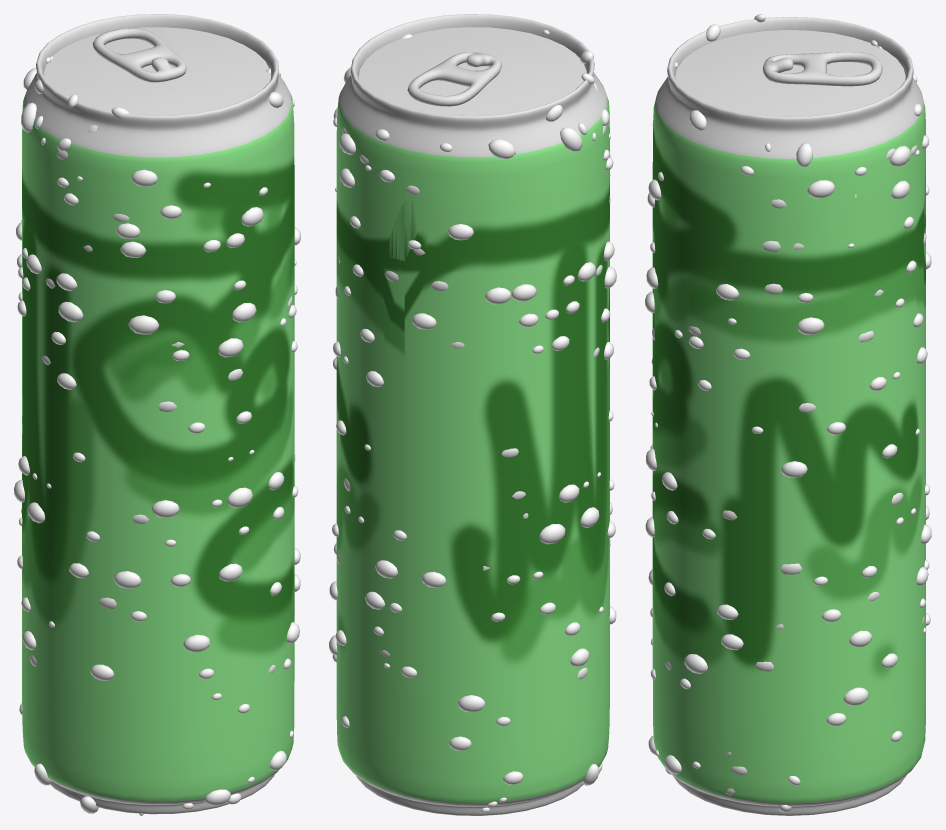
File: Soda.glb
3 renders of one model, left to right at view 1: azimuth 30°, elevation 25°; view 2: azimuth 150°, elevation 25°; view 3: azimuth 270°, elevation 25°, orthographic.
Parts seen in each view (by area): view 1: Soda.001, Droplets, Top, Cap; view 2: Soda.001, Droplets, Top, Cap; view 3: Soda.001, Droplets, Top, Cap.
Boxes of the visible parts, left/top/right/bottom form: Soda.001: left=22, top=14, right=294, bottom=814; Droplets: left=14, top=56, right=300, bottom=815; Top: left=44, top=27, right=270, bottom=115; Cap: left=92, top=28, right=186, bottom=82; Soda.001: left=336, top=14, right=609, bottom=815; Droplets: left=329, top=30, right=616, bottom=812; Top: left=358, top=27, right=586, bottom=115; Cap: left=407, top=52, right=501, bottom=106; Soda.001: left=652, top=17, right=925, bottom=815; Droplets: left=645, top=14, right=931, bottom=812; Top: left=675, top=29, right=905, bottom=116; Cap: left=762, top=52, right=882, bottom=86.
Bounding box in the file's own units: 0.0749 × 0.2057 × 0.0746.
Materials: 3 (1 with a texture image).
